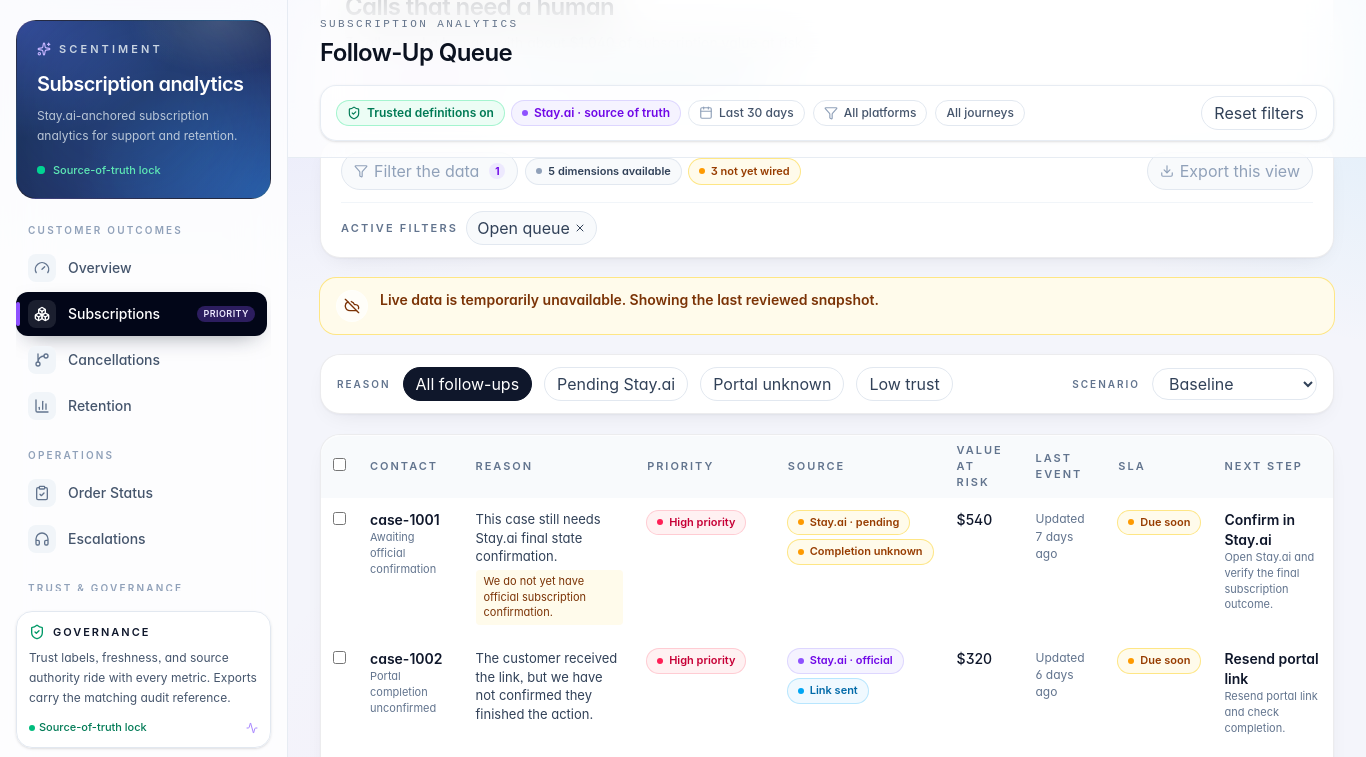
Test: Patch coverage — additional Cycle 008 branches › Follow-Up Queue renders the missing-Stay.ai banner when the scenario is set to missing_stayai_final_state
This screenshot has width=1366, height=757.
(page scrolled)
Select "Missing Stay.ai" in the dropdown named "Follow-up queue scenario": [1234, 384] box x1=1152 y1=368 x2=1317 y2=400
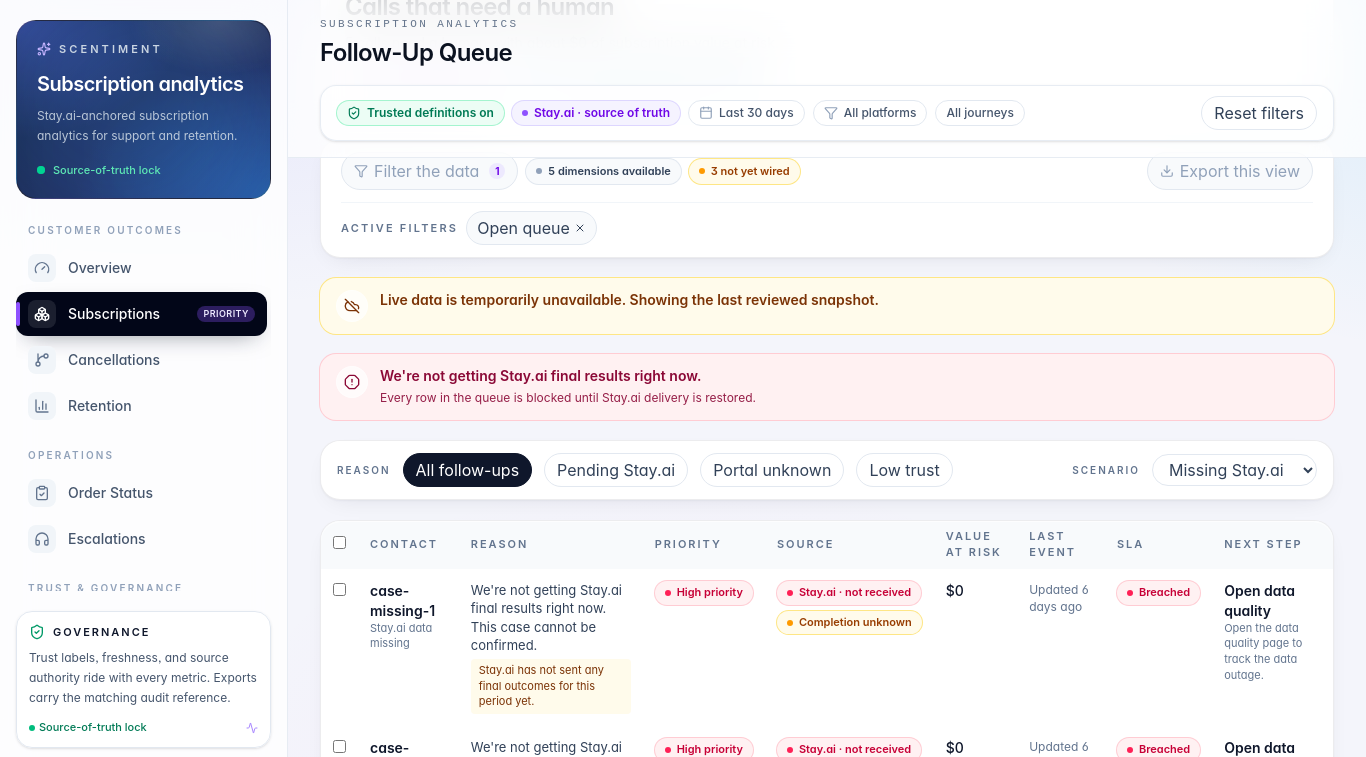
expect the message with test id "subscription-status-banner-missing" is shown: met, box x1=320 y1=354 x2=1334 y2=420
